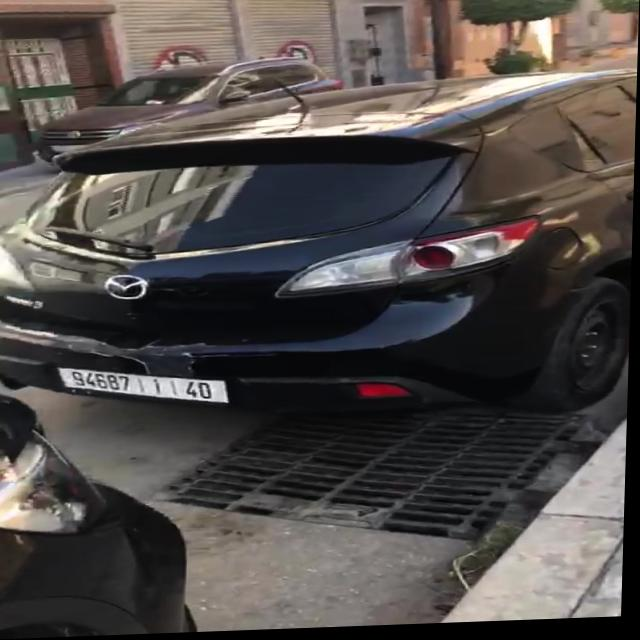License-Plate: (60, 369, 231, 404)
